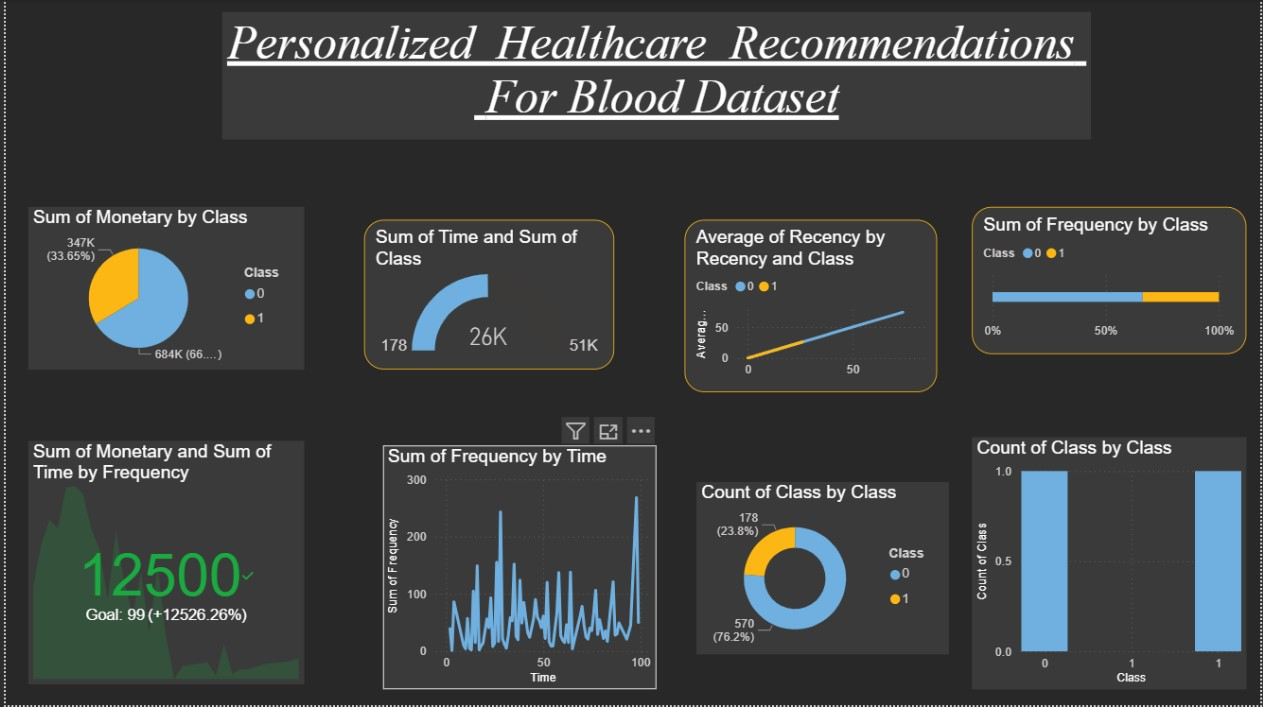

This screenshot's page, from the dashboard's own definition file:
{"tool":"powerbi","page":{"name":"Page 1","canvas":[1280,720],"ordinal":0},"visuals":[{"type":"clusteredColumnChart","fields":{"Category":["blood (1).Class"],"Y":["Count(blood (1).Class)"]},"box":[986.2,446.2,280,257.5],"z":0},{"type":"hundredPercentStackedBarChart","fields":{"Series":["blood (1).Class"],"Y":["Sum(blood (1).Frequency)"]},"box":[986.2,211.2,280,150],"z":1000},{"type":"pieChart","fields":{"Category":["blood (1).Class"],"Y":["Sum(blood (1).Monetary)"]},"box":[22.5,211.2,281.2,166.2],"z":2000},{"type":"lineChart","fields":{"Category":["blood (1).Time"],"Y":["Sum(blood (1).Frequency)"]},"box":[385,455,278.8,248.8],"z":3000},{"type":"donutChart","fields":{"Y":["CountNonNull(blood (1).Class)"],"Category":["blood (1).Class"]},"box":[705,492.5,257.5,176.2],"z":4000},{"type":"lineChart","fields":{"Y":["Avg(blood (1).Recency)"],"Category":["blood (1).Recency"],"Series":["blood (1).Class"]},"box":[692.5,225,257.5,176.2],"z":5000},{"type":"gauge","fields":{"MinValue":["Sum(blood (1).Class)"],"Y":["Sum(blood (1).Time)"]},"box":[365,225,255,152.5],"z":7000},{"type":"kpi","fields":{"Indicator":["Sum(blood (1).Monetary)"],"Goal":["Sum(blood (1).Time)"],"TrendLine":["blood (1).Frequency"]},"box":[22.5,450,281.2,248.8],"z":8000},{"type":"textbox","box":[228,18.1,951.9,155.6],"z":9000}]}

Visuals, with their boxes in screenshot pixels (x1, y1, x2, y2), scaled from the page's 1280x720 canvas onto the 1263x707 screenshot:
clusteredColumnChart - blood (1).Class x Count(blood (1).Class): box=[973, 438, 1249, 691]
hundredPercentStackedBarChart - blood (1).Class x Sum(blood (1).Frequency): box=[973, 207, 1249, 355]
pieChart - blood (1).Class x Sum(blood (1).Monetary): box=[22, 207, 300, 371]
lineChart - blood (1).Time x Sum(blood (1).Frequency): box=[380, 447, 655, 691]
donutChart - CountNonNull(blood (1).Class) x blood (1).Class: box=[696, 484, 950, 657]
lineChart - Avg(blood (1).Recency) x blood (1).Recency: box=[683, 221, 937, 394]
gauge - Sum(blood (1).Class) x Sum(blood (1).Time): box=[360, 221, 612, 371]
kpi - Sum(blood (1).Monetary) x Sum(blood (1).Time): box=[22, 442, 300, 686]
textbox: box=[225, 18, 1164, 171]
